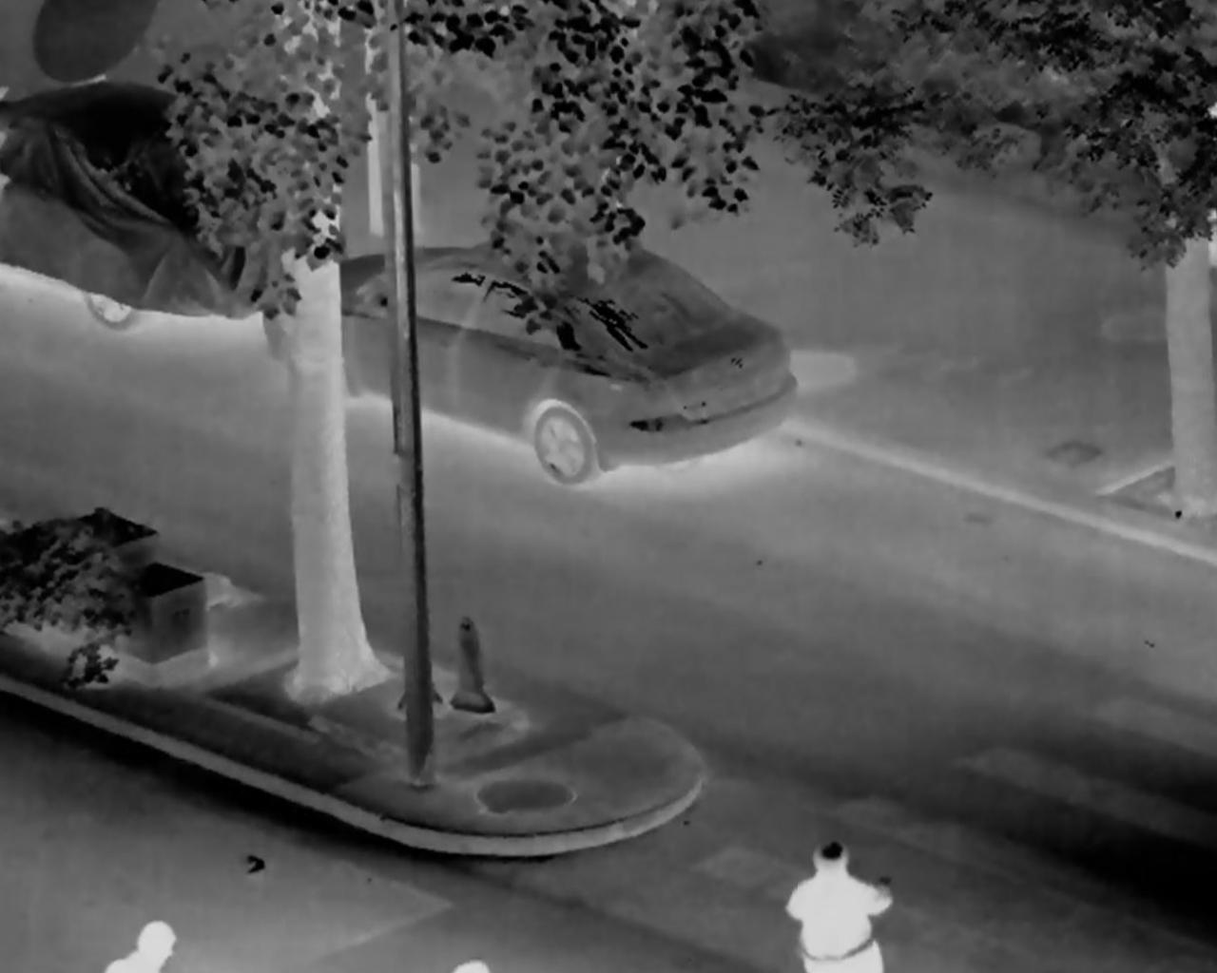person: (782, 836, 893, 973), (100, 920, 175, 973)
